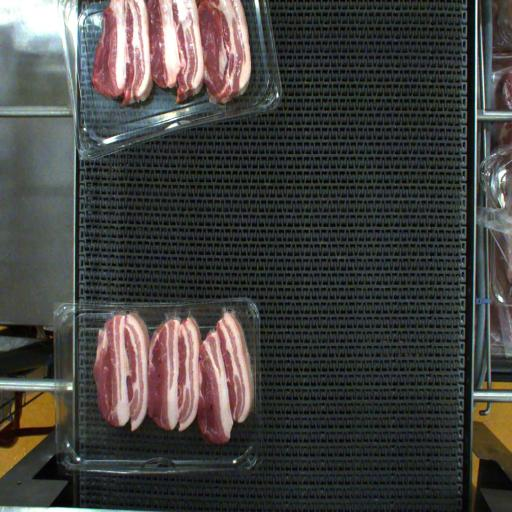packaging-error: (100, 291, 250, 339)
